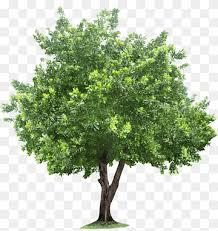tree: (6, 7, 217, 224)
